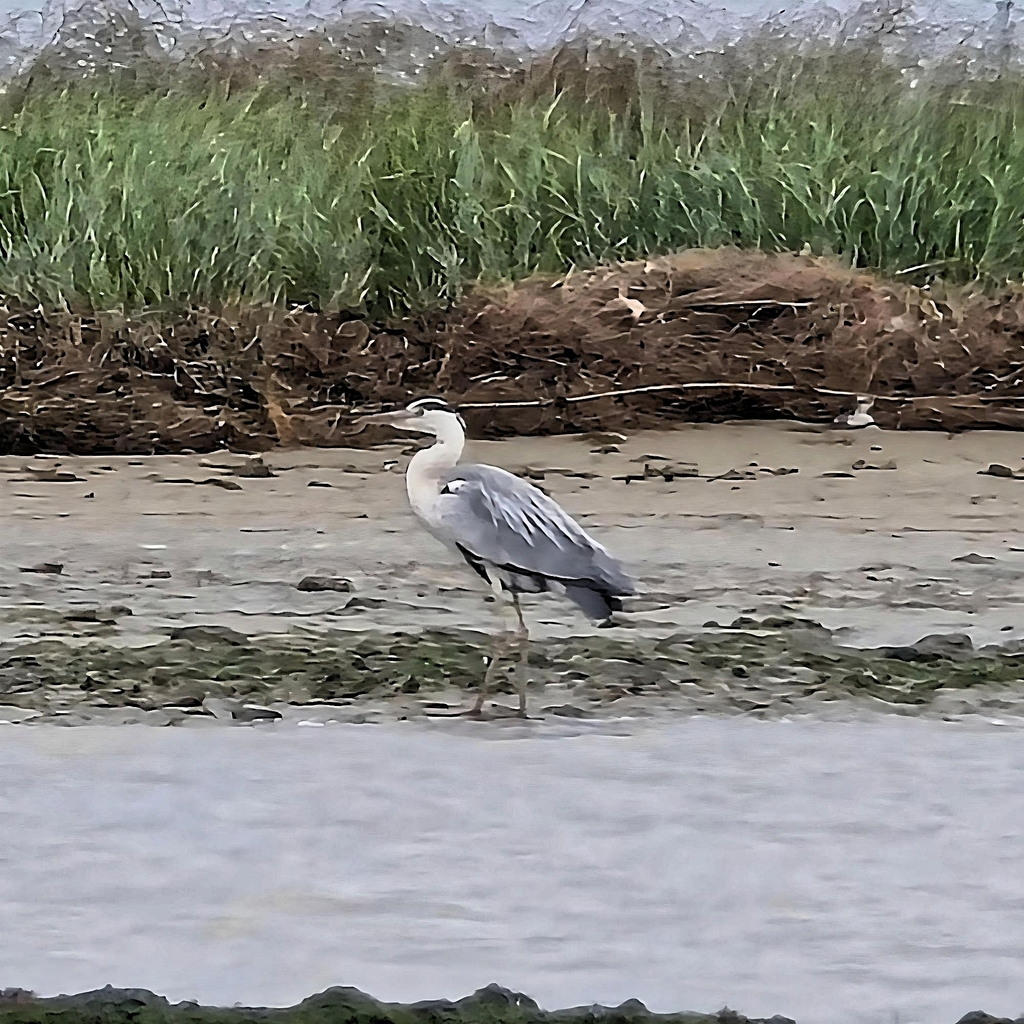heron: (348, 398, 641, 729)
